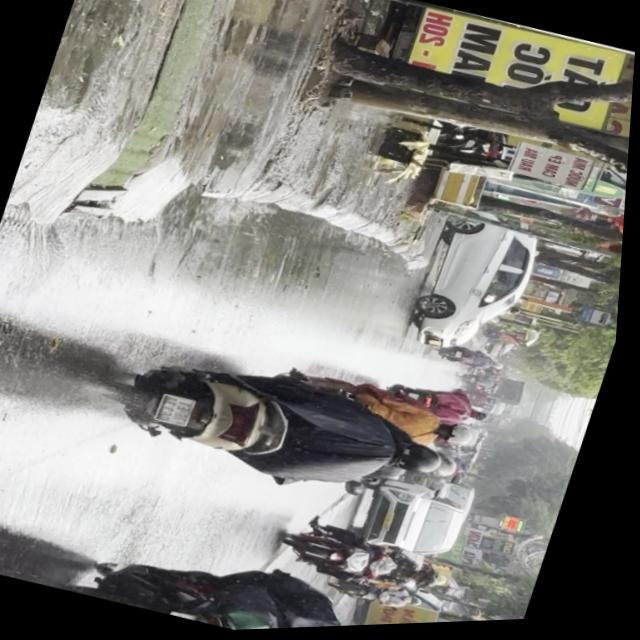helmet: (396, 440, 454, 483), (439, 422, 488, 456), (433, 453, 470, 487), (415, 569, 448, 592)
licenseplate: (74, 317, 496, 537), (64, 517, 434, 637), (278, 511, 468, 609)
nohelmet: (162, 395, 202, 429), (179, 612, 207, 623)
